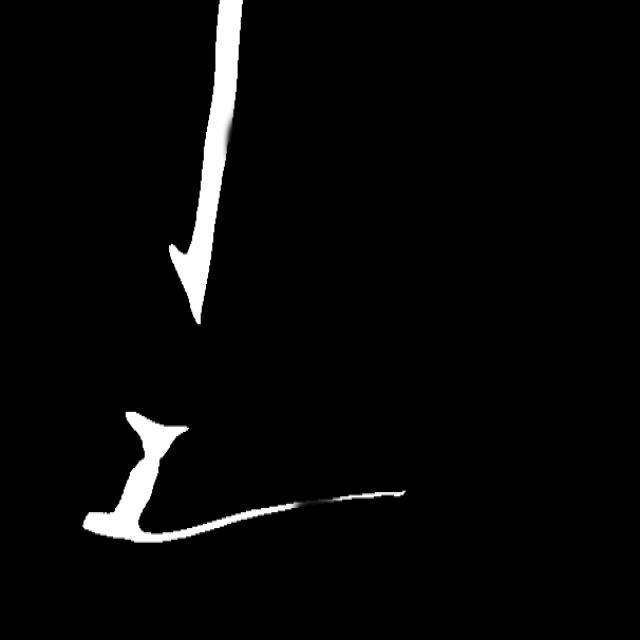inf: (293, 490, 338, 514)
